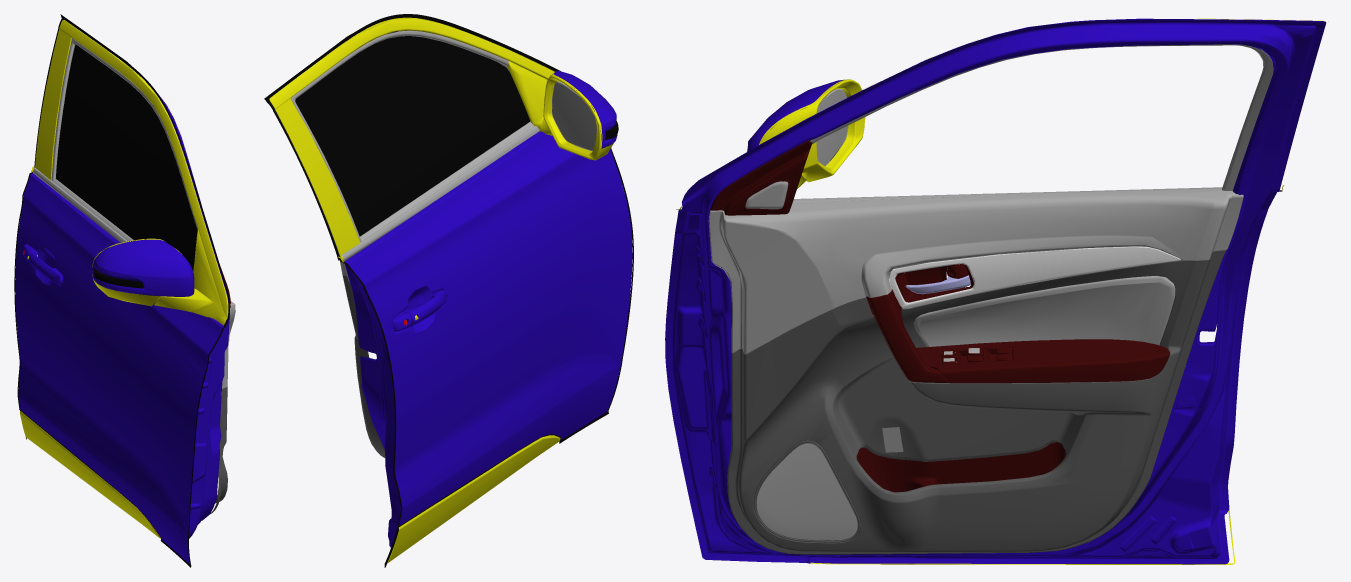
The model's file is TOYOTA_URBAN_CRUISER_HIG_EX_FR_DOORS_MESH.glb.
3 views of the same model, side by side, from view 1: azimuth 30°, elevation 25°; view 2: azimuth 150°, elevation 25°; view 3: azimuth 270°, elevation 25° (orthographic). The views are drawn at different scales.
Parts seen in each view (by area): view 1: TOYOTA_URBAN_CRUISER_HIG_EX_FR_DOORS_MESH; view 2: TOYOTA_URBAN_CRUISER_HIG_EX_FR_DOORS_MESH; view 3: TOYOTA_URBAN_CRUISER_HIG_EX_FR_DOORS_MESH.
Boxes of the visible parts, bbox=[...] form: TOYOTA_URBAN_CRUISER_HIG_EX_FR_DOORS_MESH: bbox=[14, 14, 235, 567]; TOYOTA_URBAN_CRUISER_HIG_EX_FR_DOORS_MESH: bbox=[264, 14, 633, 567]; TOYOTA_URBAN_CRUISER_HIG_EX_FR_DOORS_MESH: bbox=[665, 18, 1326, 564].
Bounding box in the file's own units: 0.4216 × 1.18 × 1.19.
Materials: 17 (1 with a texture image).
